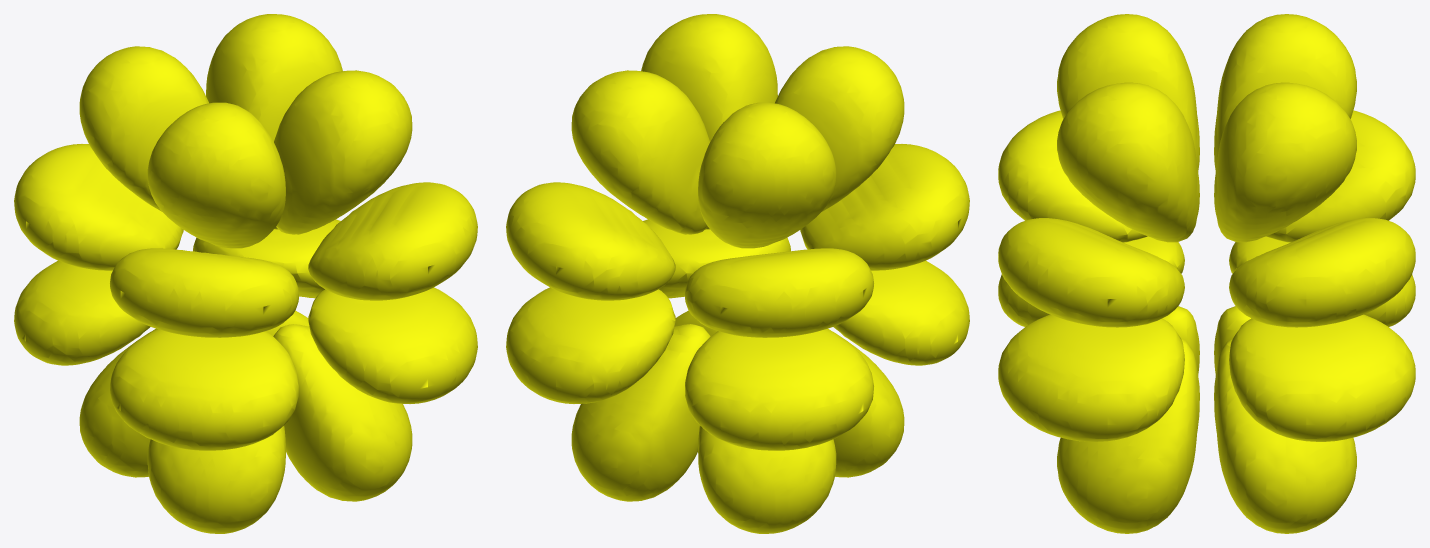
The model's file is orb_n=6_ l=5 _m=-2.fbx.
The picture shows the model from 3 angles, left to right: view 1: azimuth 30°, elevation 25°; view 2: azimuth 150°, elevation 25°; view 3: azimuth 270°, elevation 25°; orthographic projection. The views are drawn at different scales.
Parts seen in each view (by area): view 1: orb_n=6_ l=5 _m=-2; view 2: orb_n=6_ l=5 _m=-2; view 3: orb_n=6_ l=5 _m=-2.
Boxes of the visible parts, bbox=[...] form: orb_n=6_ l=5 _m=-2: bbox=[14, 14, 477, 533]; orb_n=6_ l=5 _m=-2: bbox=[506, 14, 969, 533]; orb_n=6_ l=5 _m=-2: bbox=[998, 14, 1415, 533].
Size of the model in its own units: 10080 by 11720 by 10080.
